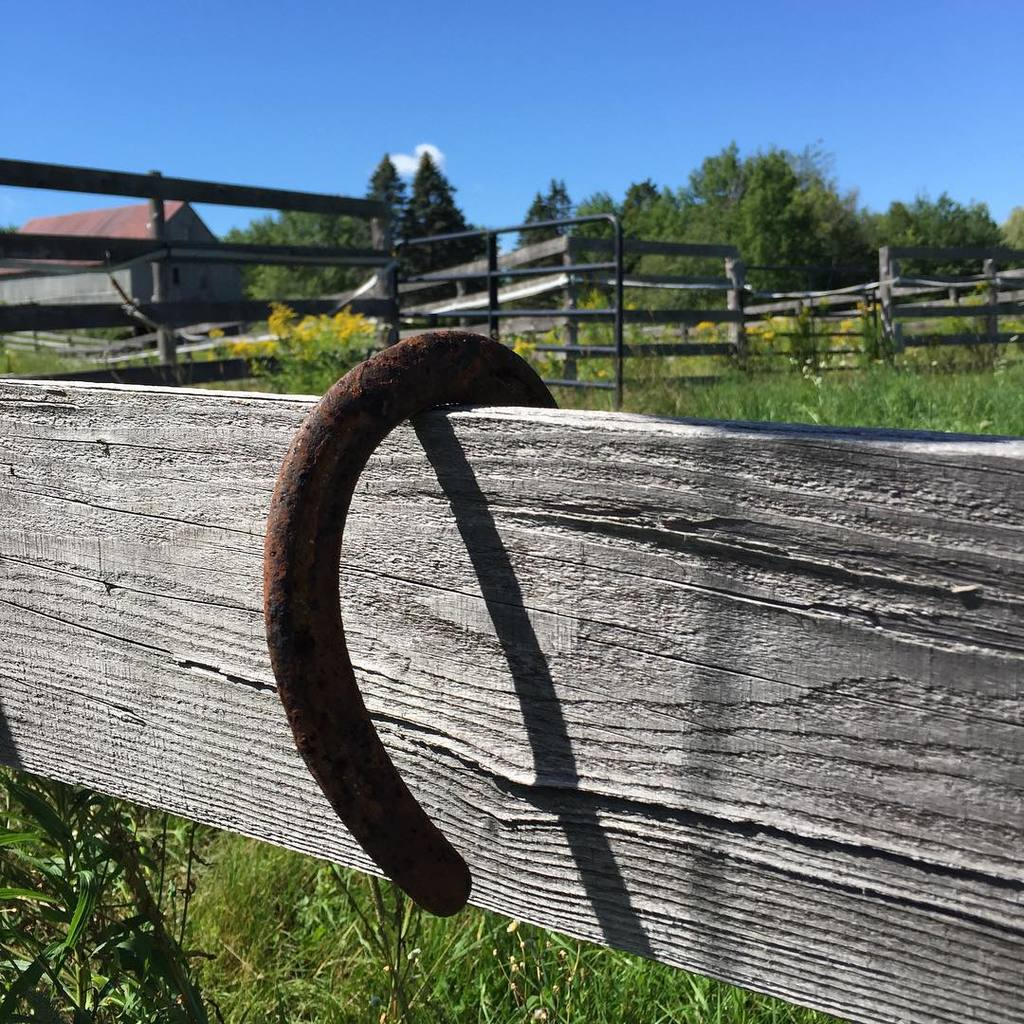Tree: (719, 131, 831, 300), (221, 296, 394, 394), (613, 178, 715, 328), (767, 167, 880, 288), (395, 142, 489, 276), (558, 186, 641, 294), (362, 149, 417, 259), (680, 141, 754, 209), (278, 208, 331, 296), (950, 182, 999, 274), (503, 182, 564, 252), (220, 220, 276, 296), (866, 197, 915, 280), (327, 213, 370, 294), (911, 184, 948, 274), (549, 172, 581, 235)
